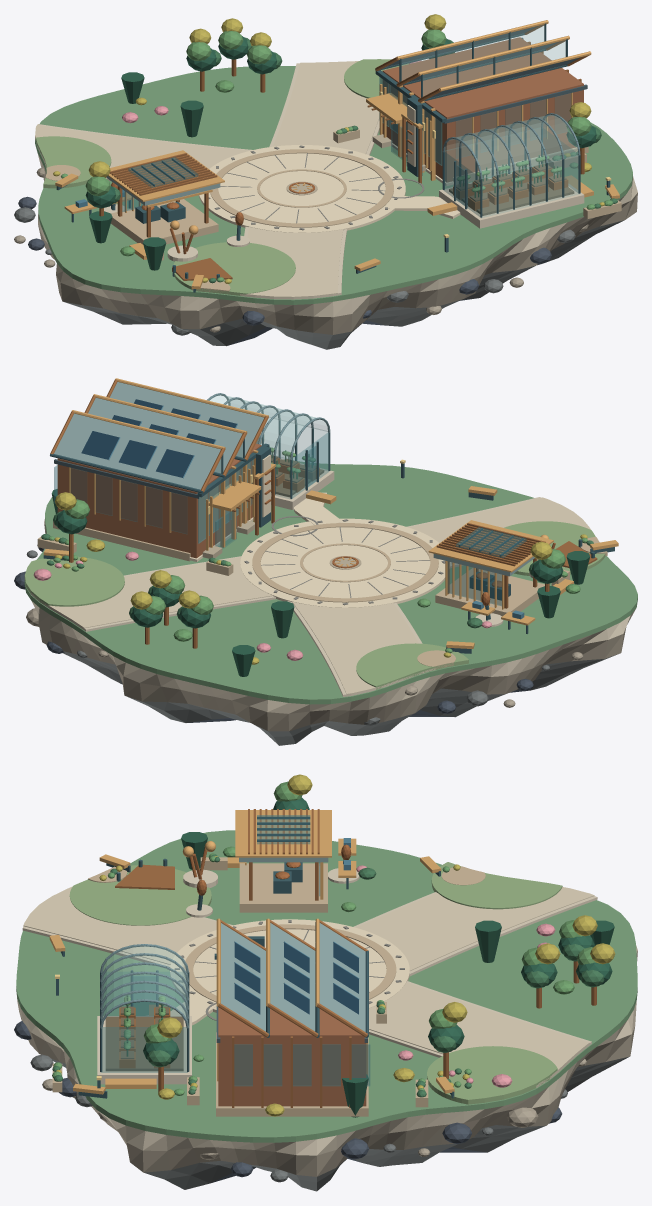
File: C_IndustryYouth_V2_RuntimeAssetCandidate.glb
3 renders of one model, top to bottom at view 1: azimuth 30°, elevation 25°; view 2: azimuth 150°, elevation 25°; view 3: azimuth 270°, elevation 25°, orthographic. The views are drawn at different scales.
Parts seen in each view (by area): view 1: grass, path, warmbrick, glass_light, stone_bright, stone_cream, cliff_light, woodlight, grass_light, terrace, wood, cliff_mid (+15 smaller); view 2: grass, stone_bright, path, roof_light, stone_cream, cliff_light, warmbrick, woodlight, grass_light, terrace, glass_shadow, cliff_mid (+16 smaller); view 3: grass, path, grass_light, stone_cream, warmbrick, terrace, cliff_light, roof_light, woodlight, wood, glass_shadow, cliff_mid (+14 smaller).
Boxes of the visible parts, x1,y1,x2,y2 form: grass: (35,66,632,304); path: (35,61,379,297); warmbrick: (382,37,583,182); glass_light: (402,25,578,217); stone_bright: (198,105,460,232); stone_cream: (35,63,637,317); cliff_light: (14,167,637,334); woodlight: (55,20,619,289); grass_light: (36,59,409,295); terrace: (45,129,621,292); wood: (99,23,589,280); cliff_mid: (14,207,624,349); grass: (24,461,637,704); stone_bright: (189,454,450,607); path: (45,497,590,694); roof_light: (54,382,534,576); stone_cream: (31,458,635,713); cliff_light: (26,523,626,731); warmbrick: (57,443,261,558); woodlight: (43,378,618,648); grass_light: (24,521,605,689); terrace: (37,433,607,669); glass_shadow: (54,446,526,606); cliff_mid: (26,550,618,745); grass: (16,830,637,1142); path: (23,886,594,1083); grass_light: (69,862,562,1104); stone_cream: (16,868,637,1155); warmbrick: (218,1007,366,1106); terrace: (52,857,485,1116); cliff_light: (20,951,637,1176); roof_light: (221,857,365,1031); woodlight: (49,810,454,1094); wood: (115,809,596,1107); glass_shadow: (133,815,370,1086); cliff_mid: (30,1054,629,1191).
Size of the model in its own units: 29.84 by 11.54 by 25.5.
